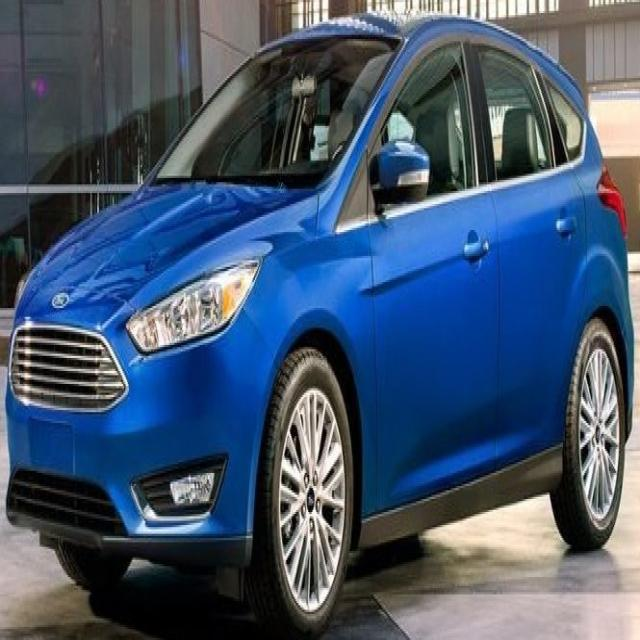blue: (6, 6, 635, 605)
